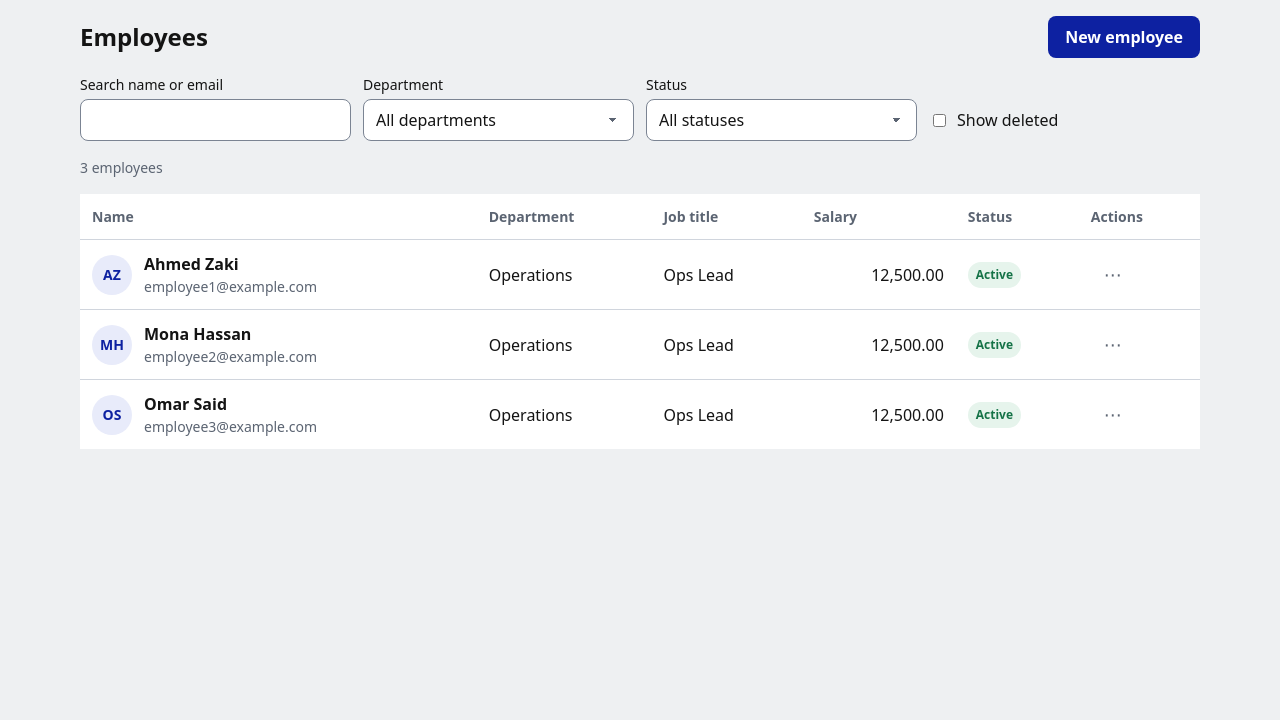
Employee delete - pending (edge case 3) › shows Delete as busy, disables both buttons and ignores Esc
expect the table is shown: met, box [80,194,1200,449]
Click the button named "Actions for Ahmed Zaki" at (1113, 274), box [1091,256,1135,293]
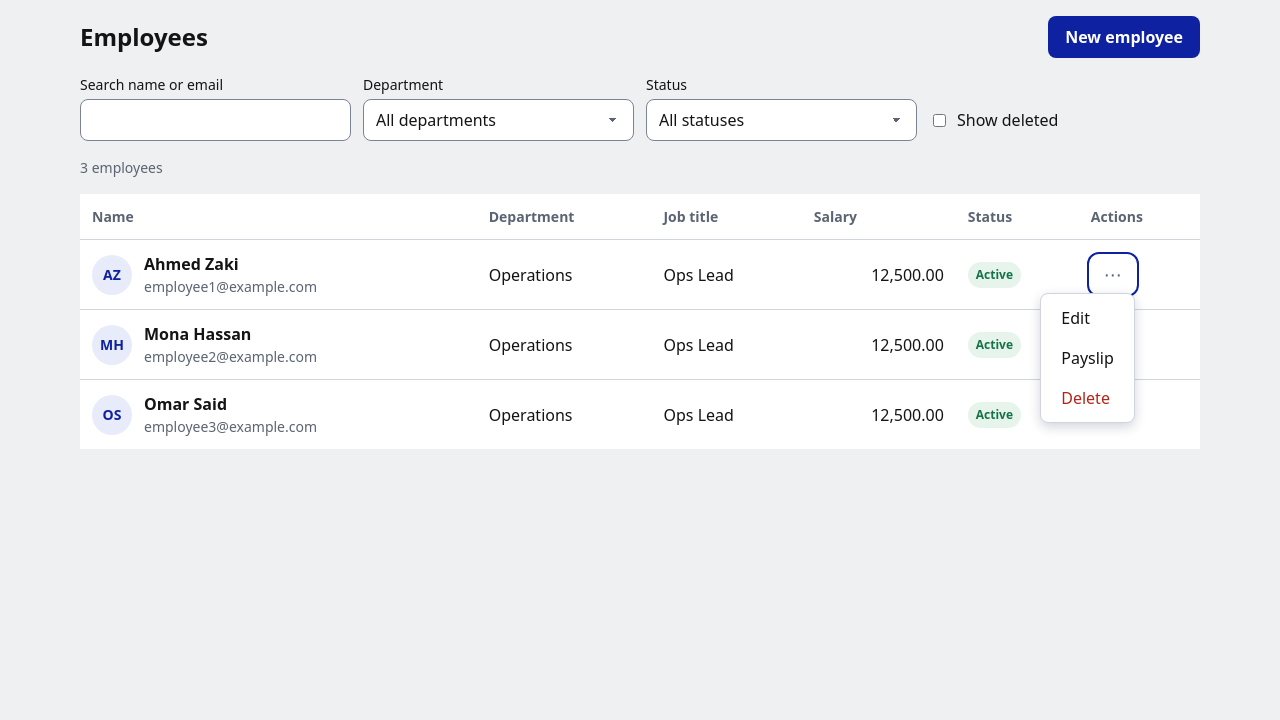
Click the menu item "Delete" at (1088, 398), box [1045,378,1130,418]
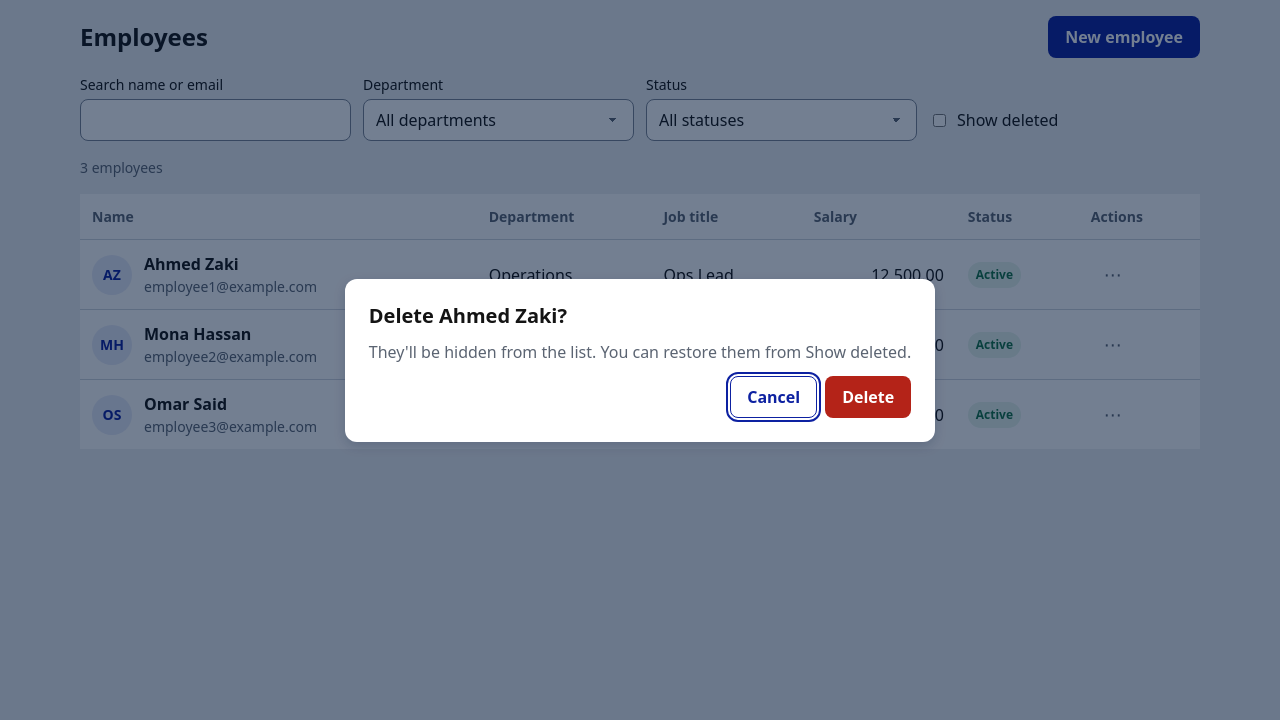
expect the dialog is shown: met, box [345,278,935,442]
Click the button "Delete" at (868, 396), box [825,376,911,418]
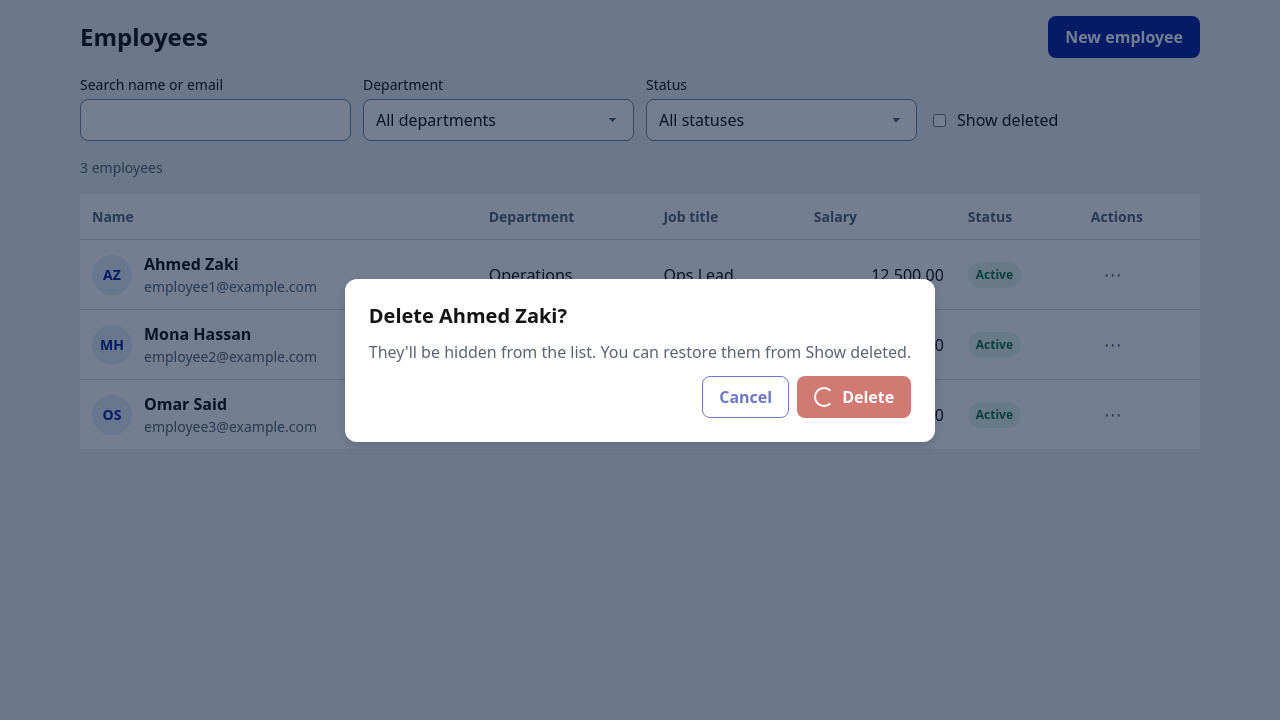
expect the dialog "Delete Ahmed Zaki?" is shown: met, box [345,278,935,442]
expect the button "Delete" is disabled: met, box [797,376,911,418]
expect the button "Cancel" is disabled: met, box [702,376,789,418]
